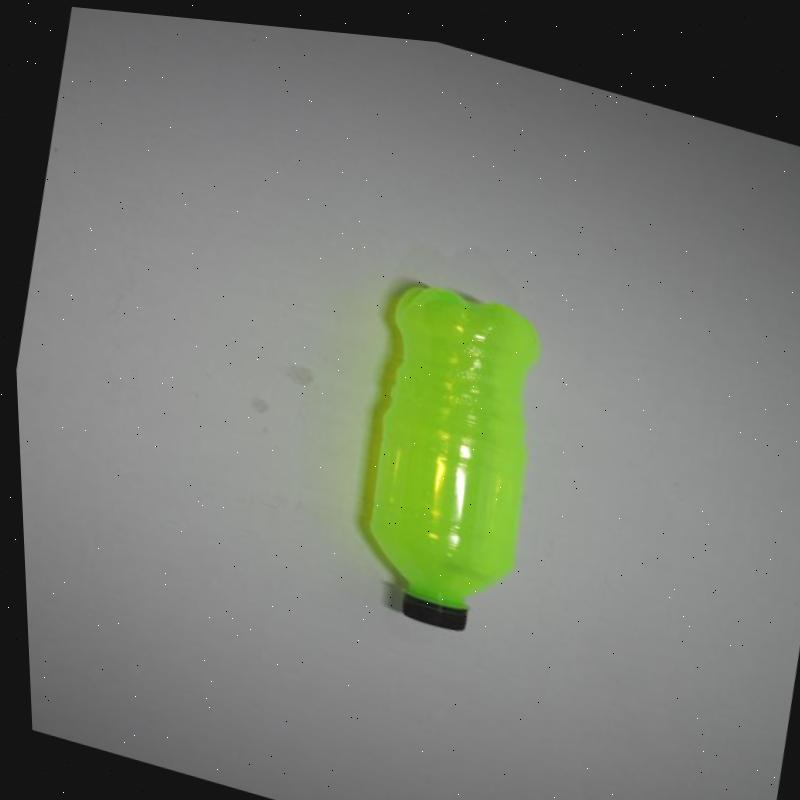botella: (321, 255, 562, 645)
